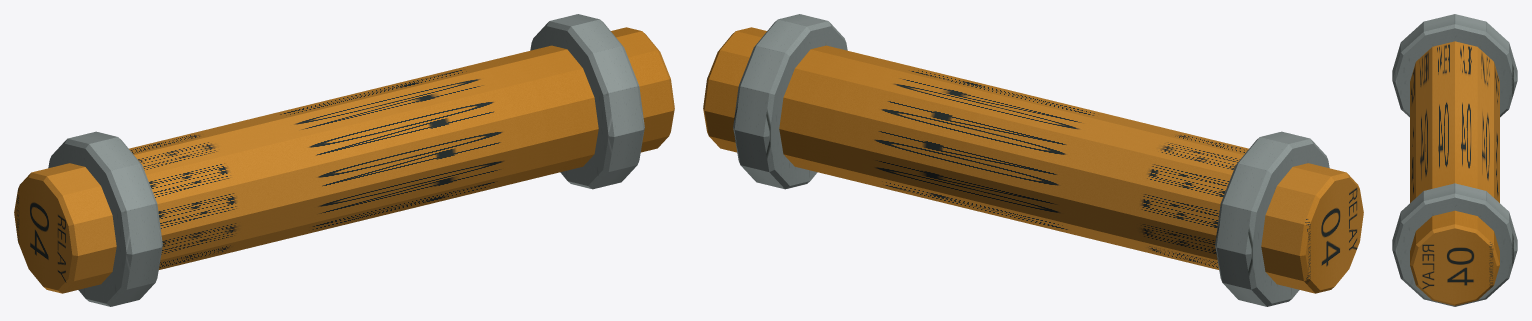
Rendered from pipe_straight_LOD1.obj.
3 renders of one model, left to right at view 1: azimuth 30°, elevation 25°; view 2: azimuth 150°, elevation 25°; view 3: azimuth 270°, elevation 25°, orthographic. The views are drawn at different scales.
Parts seen in each view (by area): view 1: L02_pipe_straight_LOD1; view 2: L02_pipe_straight_LOD1; view 3: L02_pipe_straight_LOD1.
Part boxes in pixels (left/top/right/bottom): L02_pipe_straight_LOD1: left=14, top=14, right=674, bottom=306; L02_pipe_straight_LOD1: left=703, top=14, right=1363, bottom=306; L02_pipe_straight_LOD1: left=1392, top=14, right=1517, bottom=306.
Bounding box in the file's own units: 2 × 0.5 × 0.5.
1 material, 1 textured.
